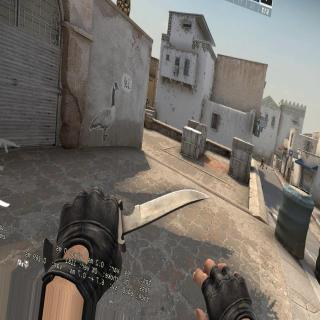CT-Body: (259, 156, 265, 169), (146, 98, 149, 107)
CT-Head: (147, 98, 148, 101), (263, 157, 264, 159)
